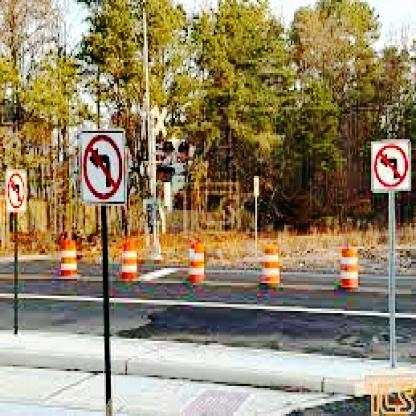No left turn: (82, 129, 126, 202), (373, 142, 408, 192), (5, 175, 32, 210)
